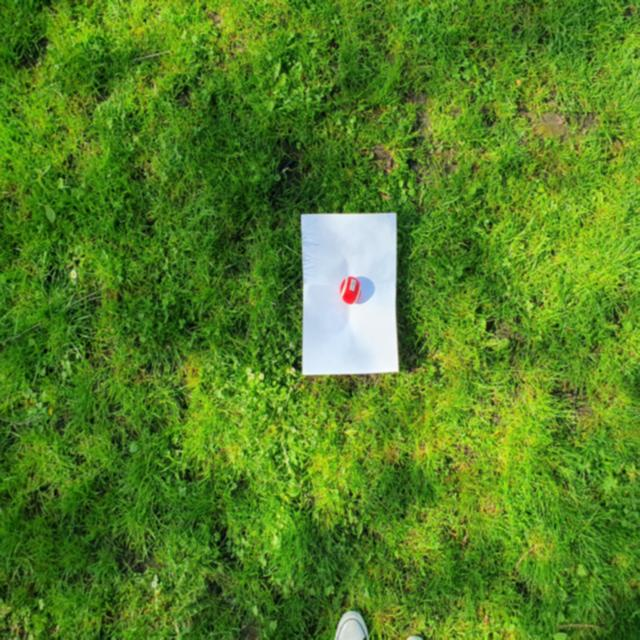red: (340, 276, 361, 304)
